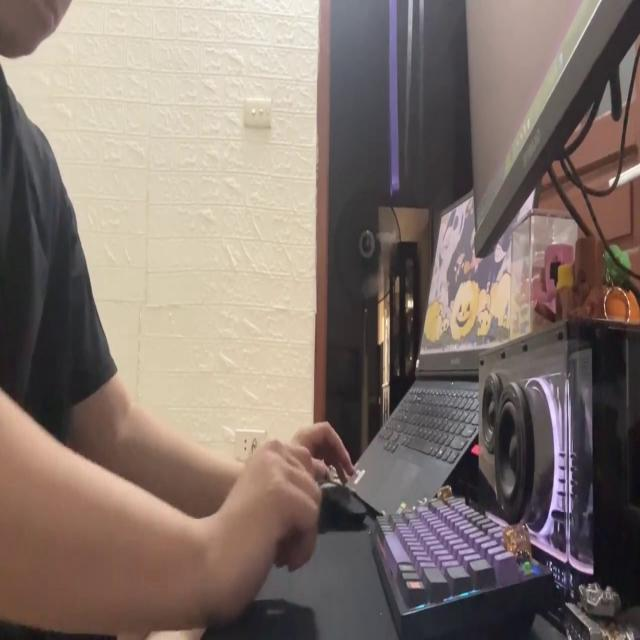laptop: (345, 167, 541, 519), (464, 3, 640, 254)
student: (1, 0, 360, 640)
